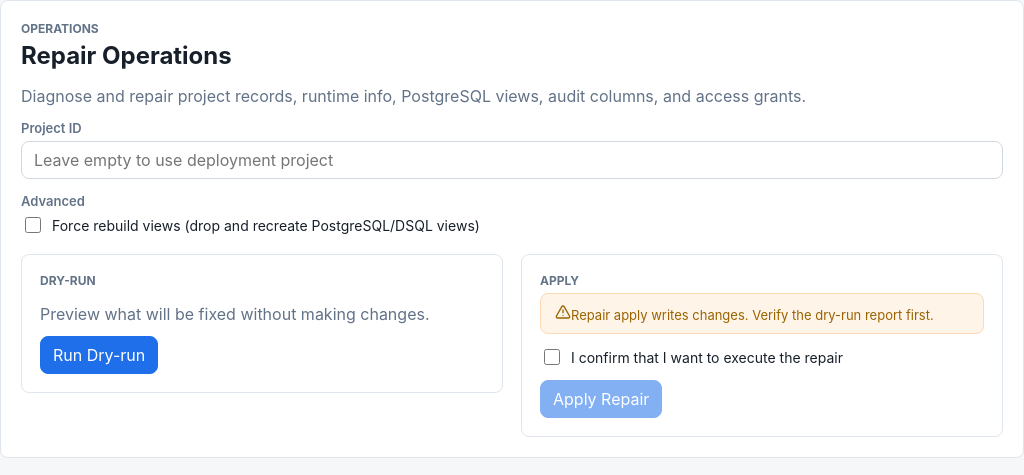
Test: RepairWorkspace › enables apply button when confirm checkbox is checked
Click the checkbox labelled "I confirm that I want to execute the repair": (552,357) [544, 349, 560, 365]
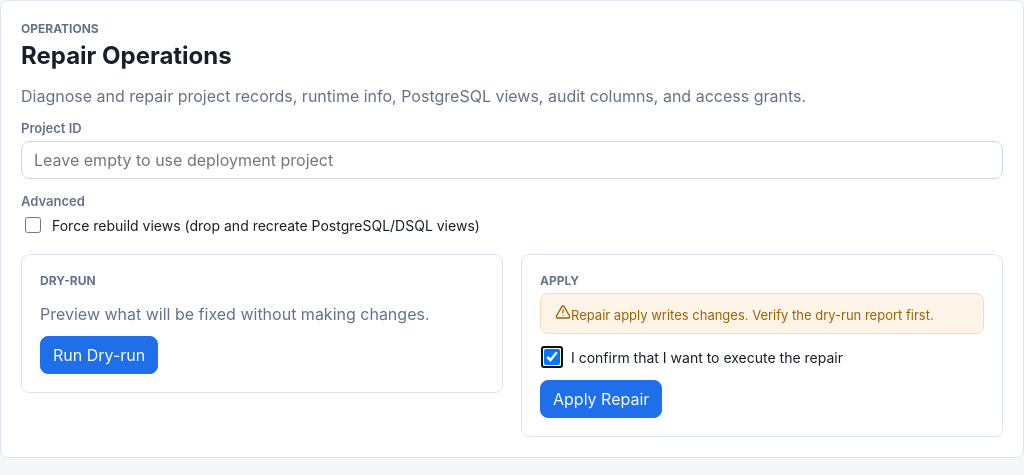
Expected: the button "Apply Repair" is enabled, [540, 380, 662, 418]
